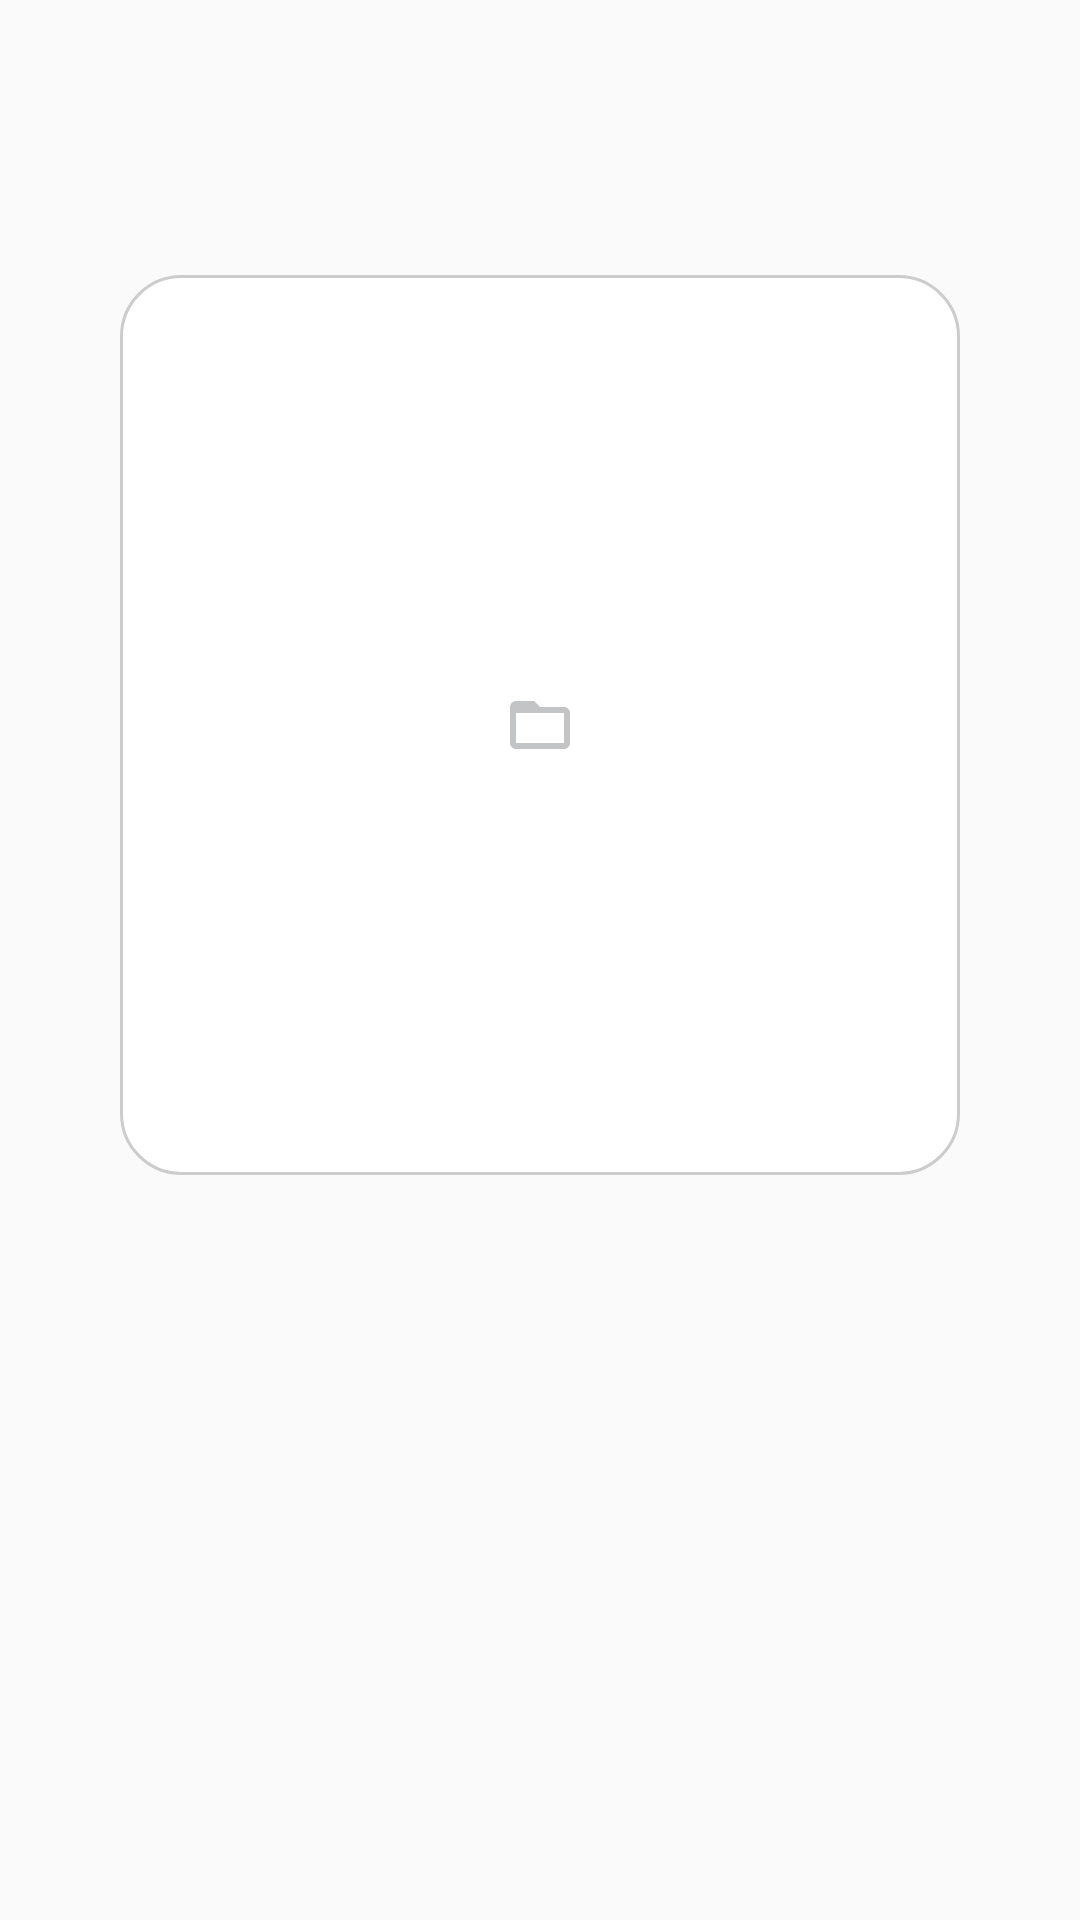

Named icons in this screenshot (1080 x 1920) and their bounding boxes, [left=x1, top=y1, right=x2, bottom=y2]:
folder: [left=510, top=701, right=570, bottom=749]
